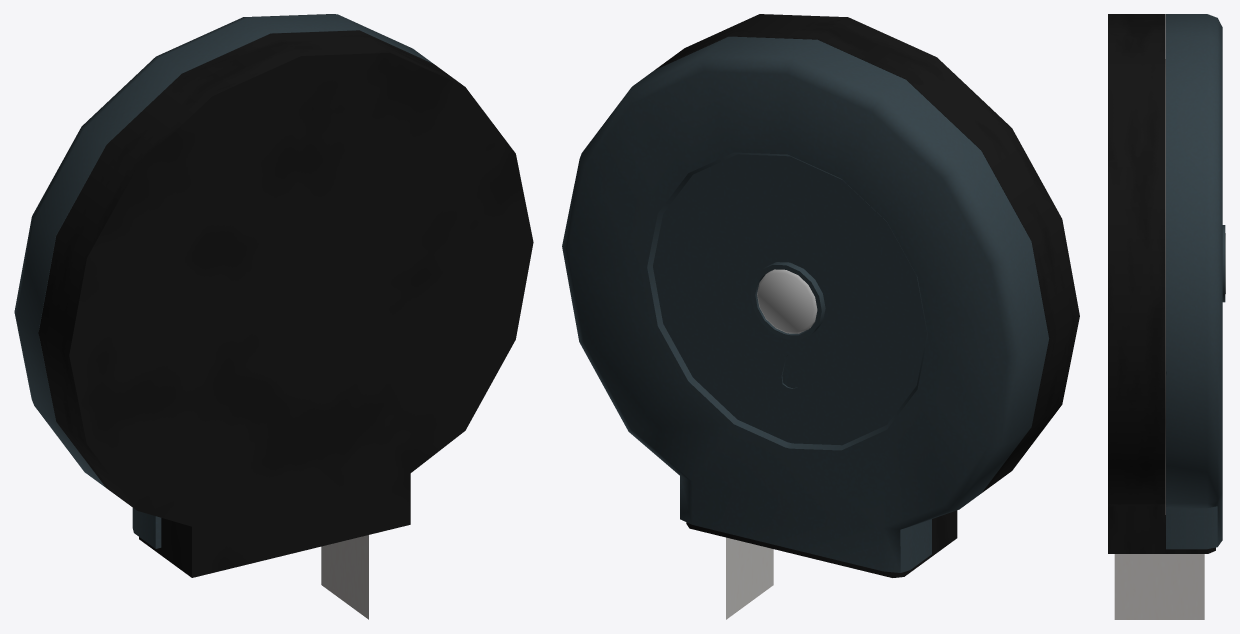
File: toiletpaperdispensor.fbx
The picture shows the model from 3 angles, left to right: view 1: azimuth 30°, elevation 25°; view 2: azimuth 150°, elevation 25°; view 3: azimuth 270°, elevation 25°; orthographic projection. The views are drawn at different scales.
Visible parts, largest first — view 1: jumbotoiletpaper_case, jumbotoiletpaper; view 2: jumbotoiletpaper_case, jumbotoiletpaper; view 3: jumbotoiletpaper_case, jumbotoiletpaper.
Part boxes in pixels (<box>): jumbotoiletpaper_case: <box>14,14,533,577</box>; jumbotoiletpaper: <box>321,535,368,619</box>; jumbotoiletpaper_case: <box>562,14,1079,577</box>; jumbotoiletpaper: <box>726,537,773,619</box>; jumbotoiletpaper_case: <box>1108,14,1225,553</box>; jumbotoiletpaper: <box>1114,59,1204,619</box>.
Bounding box in the file's own units: 53.4 × 64.18 × 12.46.
Materials: 2 (2 with a texture image).
